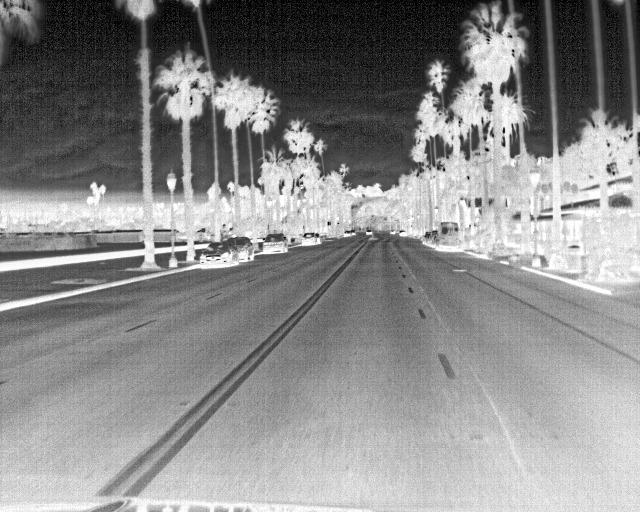car: (196, 242, 234, 268), (435, 219, 460, 251), (224, 237, 254, 262), (261, 232, 288, 255), (299, 230, 322, 245), (426, 228, 441, 246), (342, 229, 353, 238), (364, 228, 373, 237)
